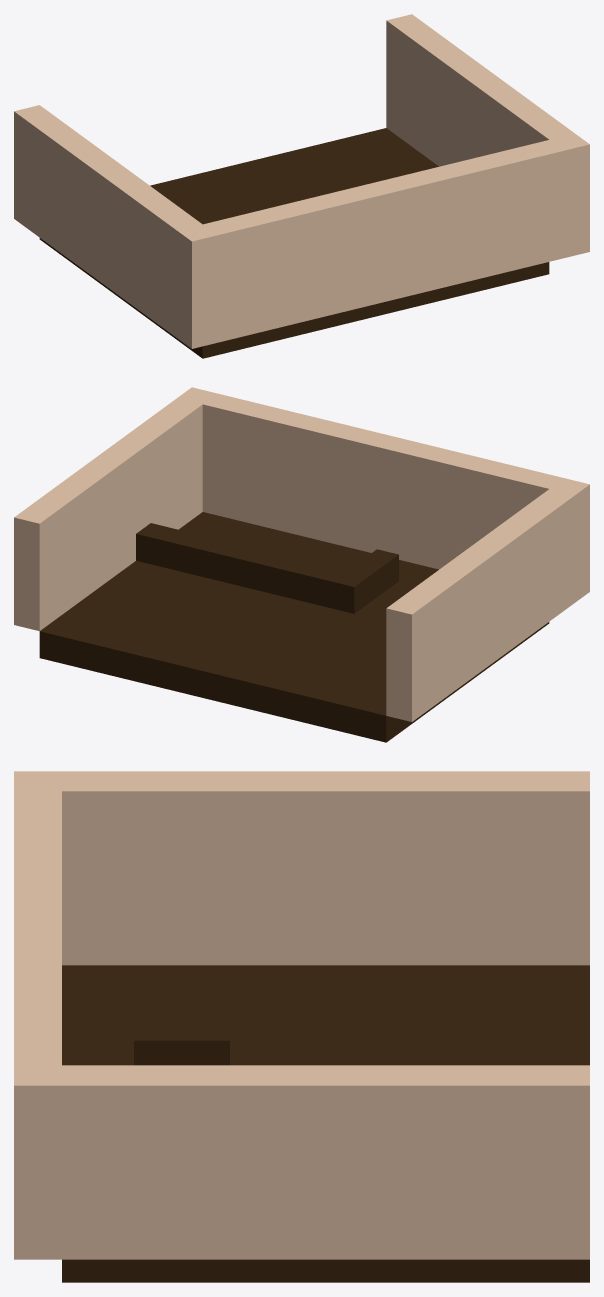
The model's file is baari.gltf.
The picture shows the model from 3 angles, top to bottom: view 1: azimuth 30°, elevation 25°; view 2: azimuth 150°, elevation 25°; view 3: azimuth 270°, elevation 25°; orthographic projection. The views are drawn at different scales.
Parts seen in each view (by area): view 1: Wall3, Wall2, Wall1, Floor; view 2: Floor, Wall3, Wall2, Wall1; view 3: Wall1, Wall2, Floor, Wall3.
Part boxes in pixels (<box>): Wall3: <box>203,140,564,342</box>; Wall2: <box>14,105,217,348</box>; Wall1: <box>386,14,589,257</box>; Floor: <box>39,128,549,358</box>; Floor: <box>39,512,549,742</box>; Wall3: <box>202,393,563,569</box>; Wall2: <box>386,478,589,721</box>; Wall1: <box>14,387,217,630</box>; Wall1: <box>14,1065,589,1259</box>; Wall2: <box>14,771,589,965</box>; Floor: <box>62,965,589,1282</box>; Wall3: <box>14,791,61,1065</box>.
Size of the model in its own units: 31 by 10 by 24.
